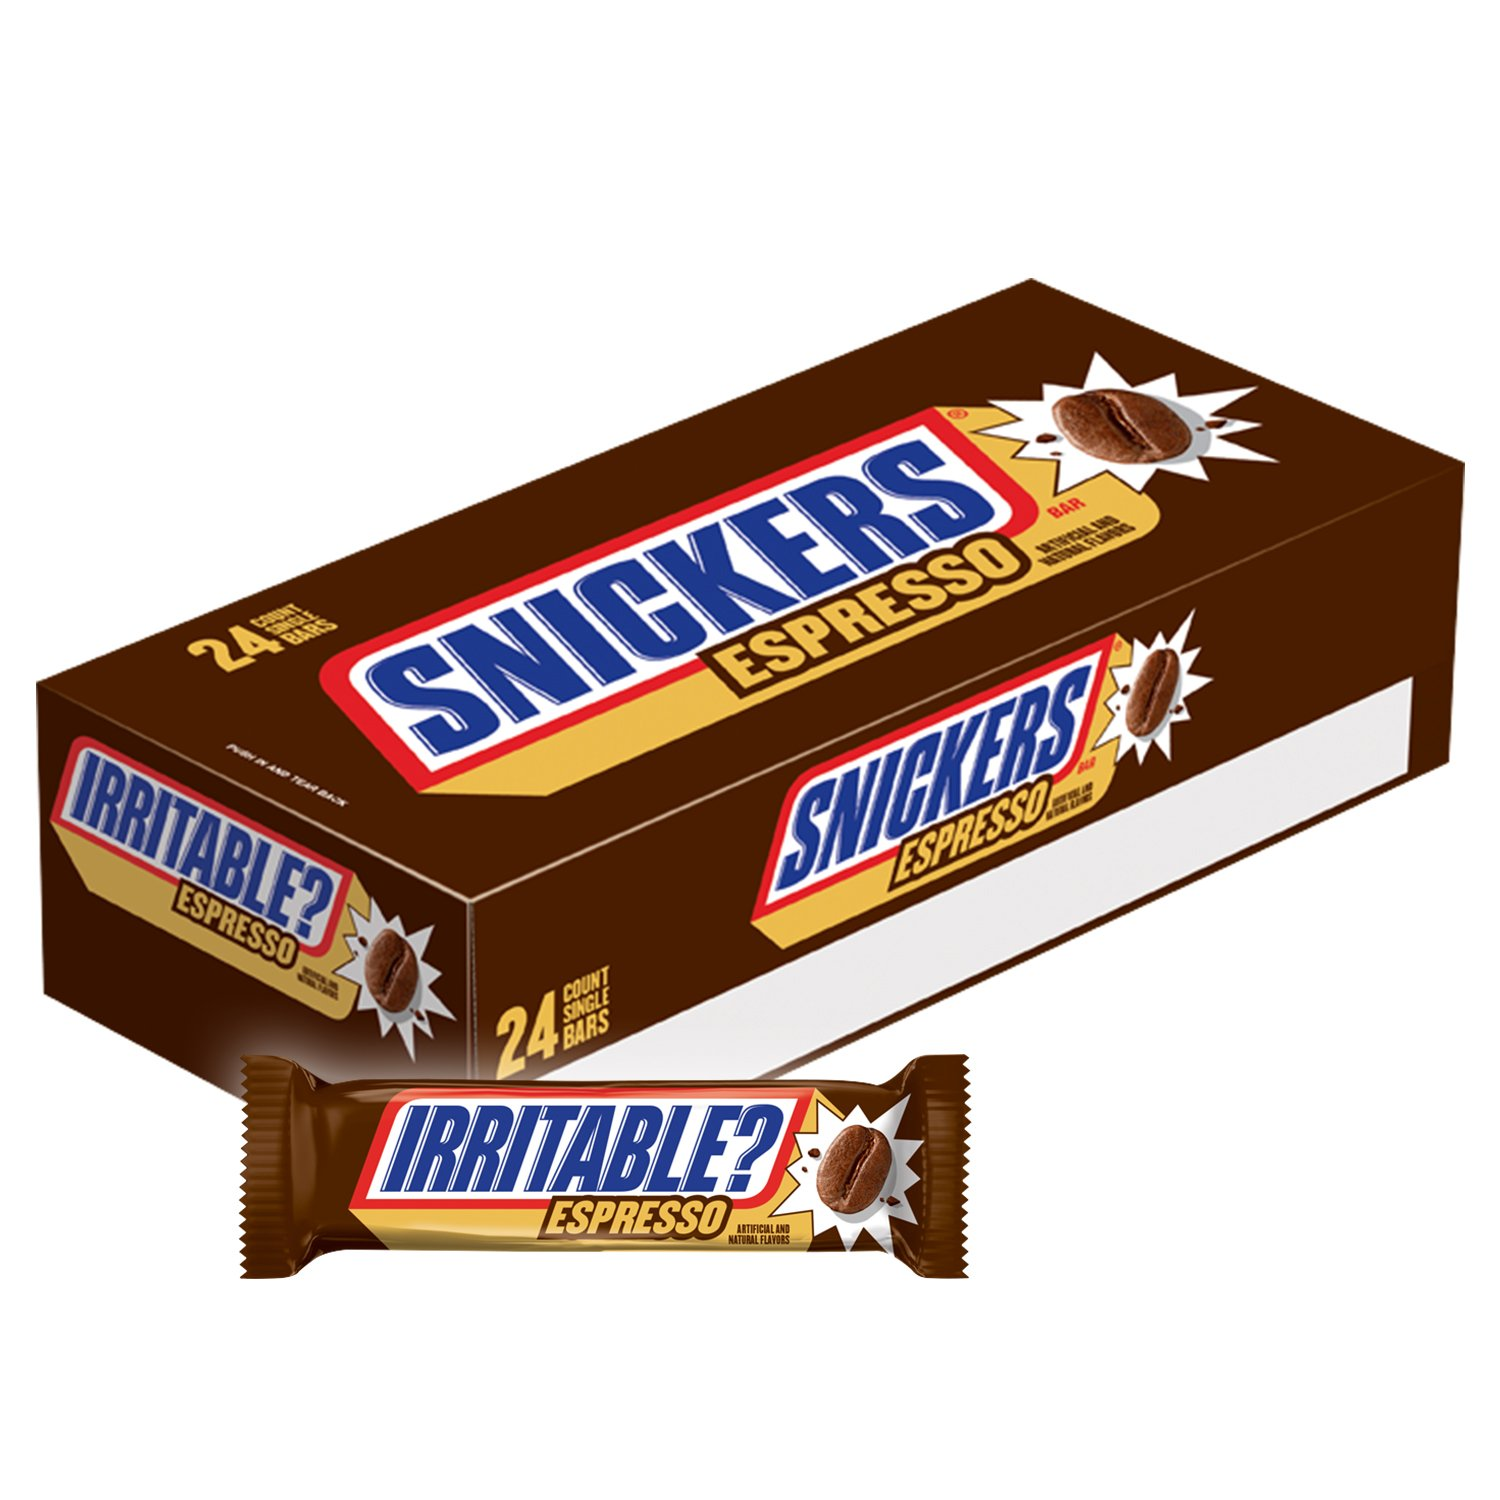snickers: (364, 418, 982, 751), (364, 438, 995, 751), (775, 659, 1093, 890)
